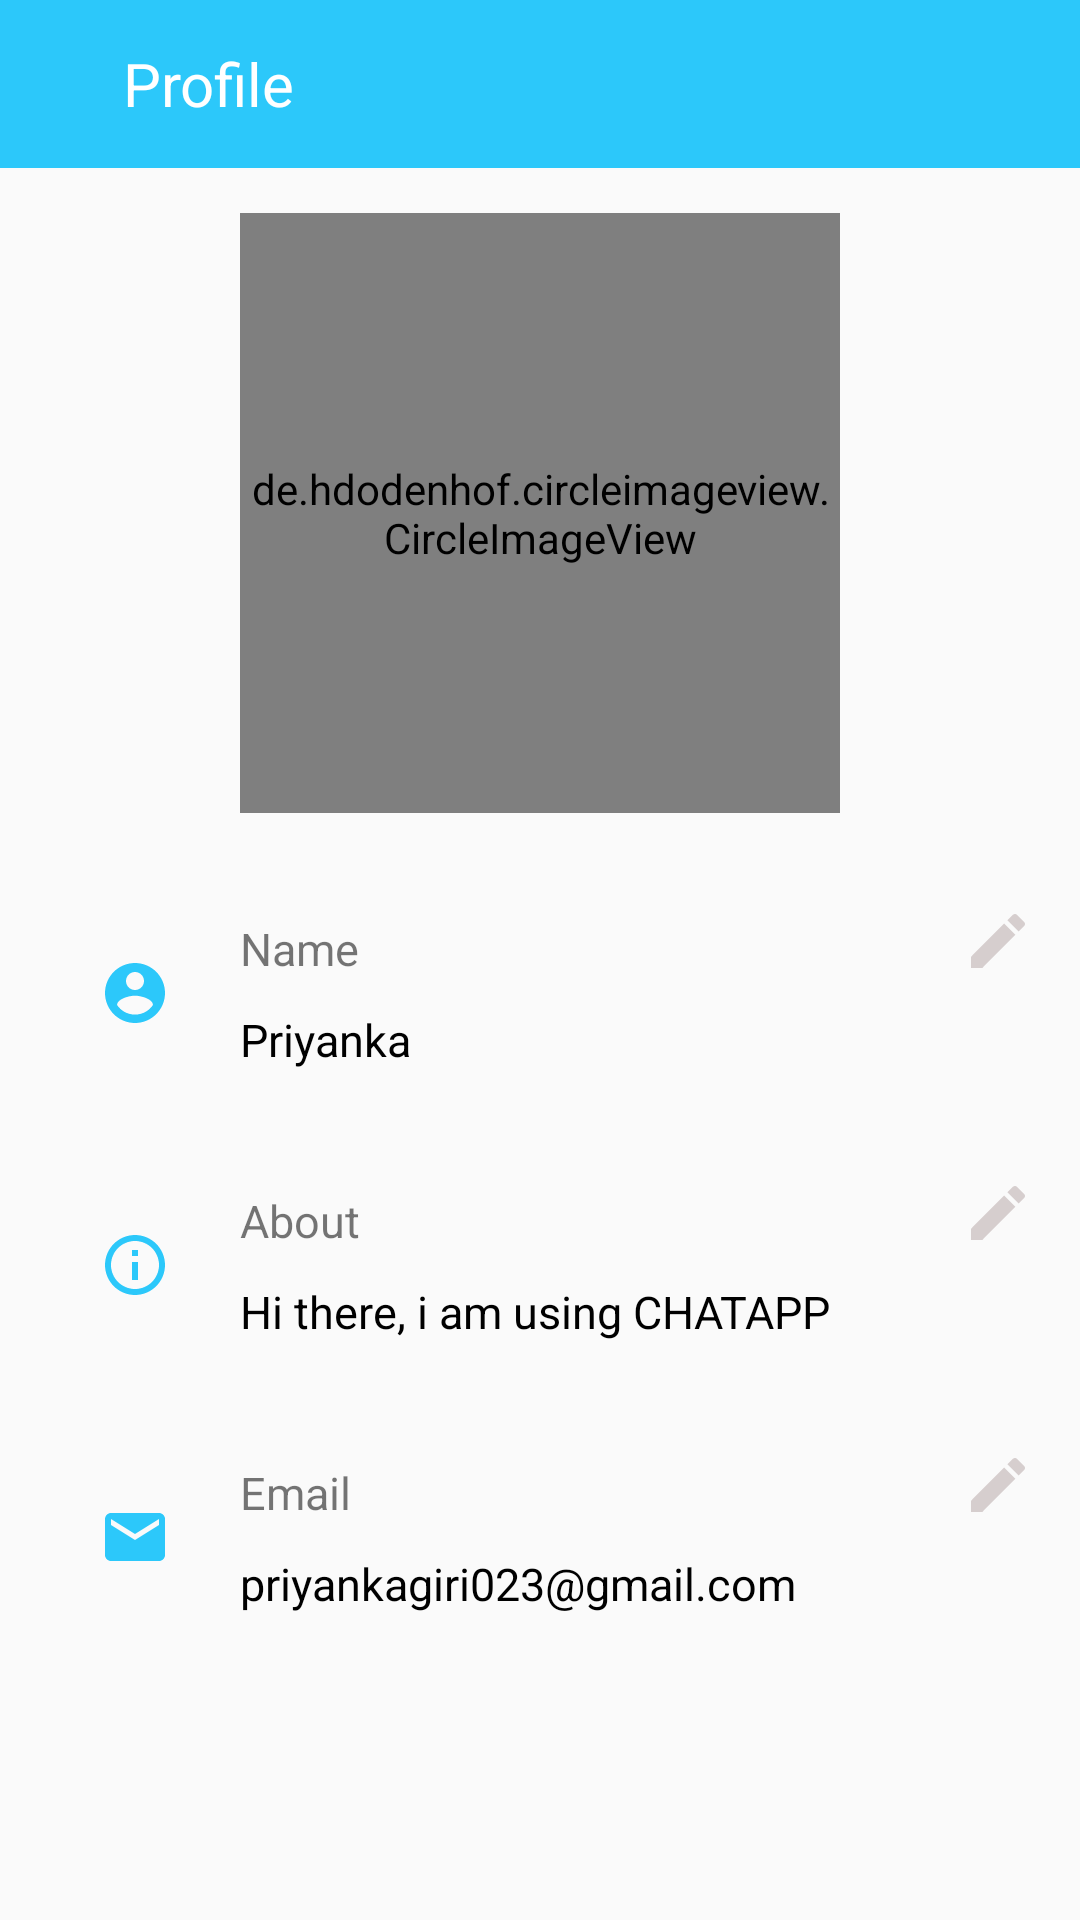

Point at icon controls on the screen. Image size 1080×1920, points as [x,y].
account circle: [135,993]
edit: [998,941], [998,1213], [998,1485]
info: [135,1265]
